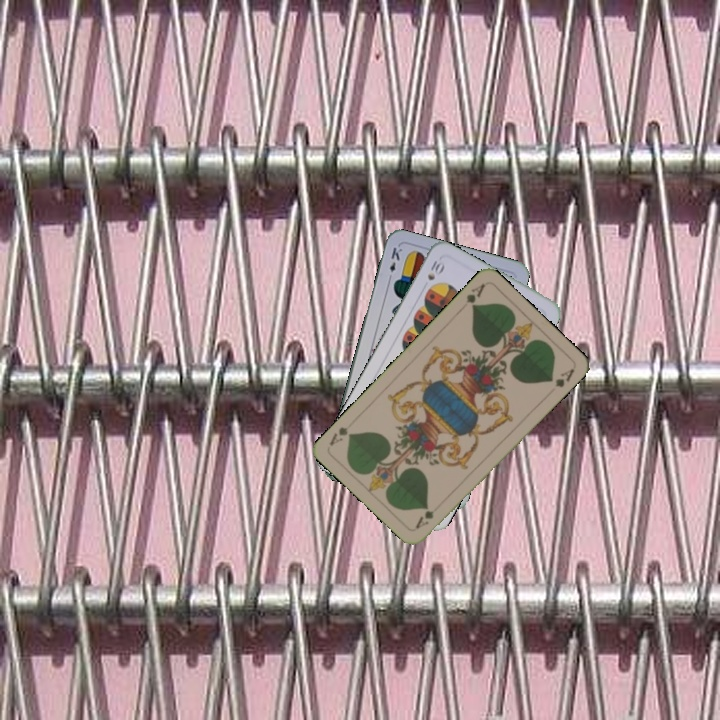EK: (384, 243, 405, 283)
GA: (411, 499, 444, 531), (462, 280, 488, 311)
S10: (423, 256, 447, 283)
